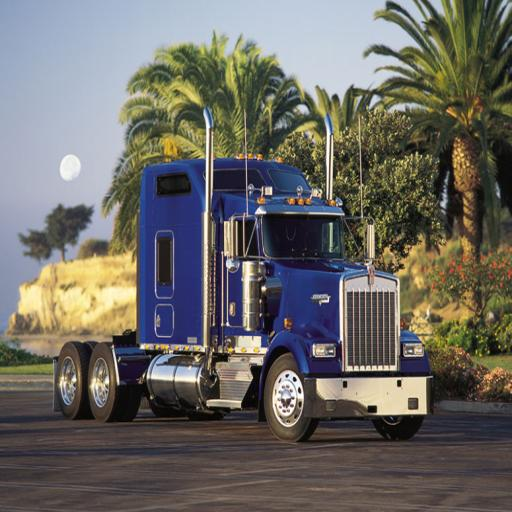truck: (54, 108, 433, 441)
